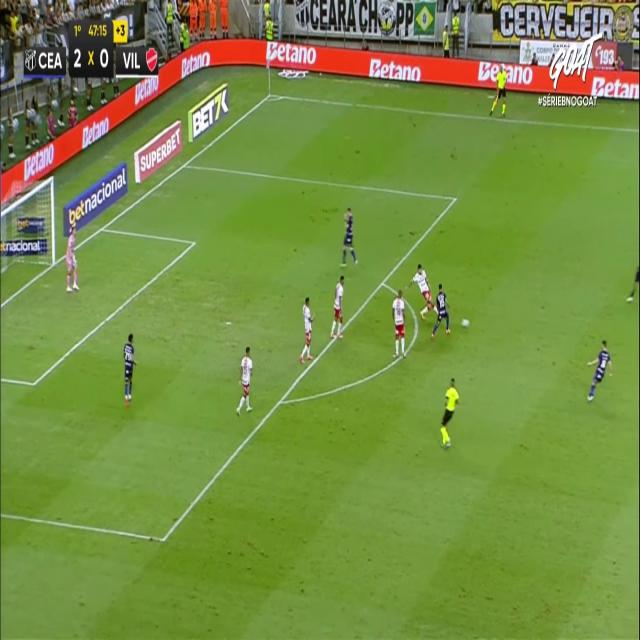ball: (461, 318, 469, 327)
goalkeeper: (65, 225, 79, 291)
player: (405, 262, 437, 320), (587, 339, 613, 402), (235, 345, 253, 416), (339, 206, 358, 267), (431, 283, 451, 340), (299, 296, 315, 364), (123, 333, 137, 407), (392, 289, 406, 357), (330, 275, 344, 339), (624, 257, 640, 304)
referee: (440, 377, 460, 448), (489, 63, 508, 117)
